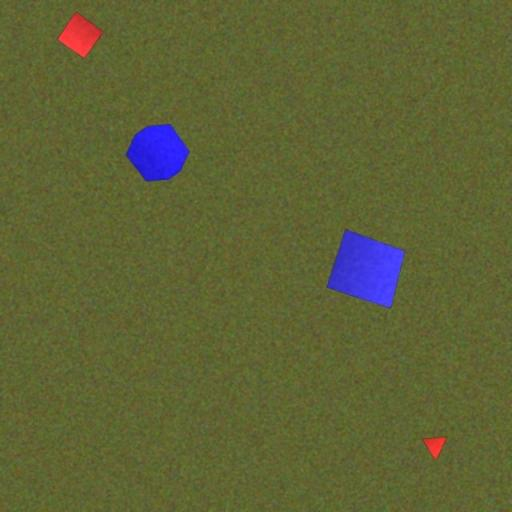BLUE_SQUARE: (326, 228, 406, 310)
RED_SQUARE: (57, 11, 104, 59)
